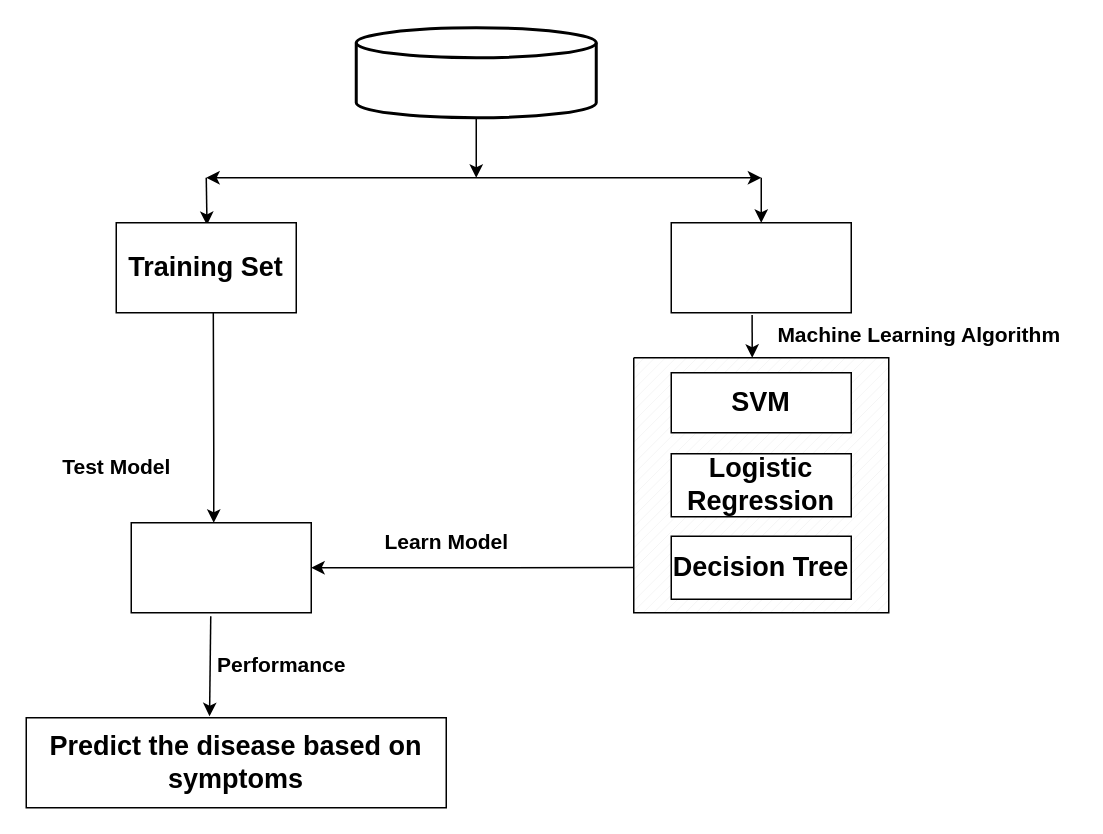
The diagram is 1103 pixels wide and 834 high, and some of its shapes have lost their labels. Each missing label, with the box of its shape:
Disease Dataset: (354, 26, 597, 118)
Model: (130, 521, 311, 613)
Testing Set: (670, 221, 851, 313)
